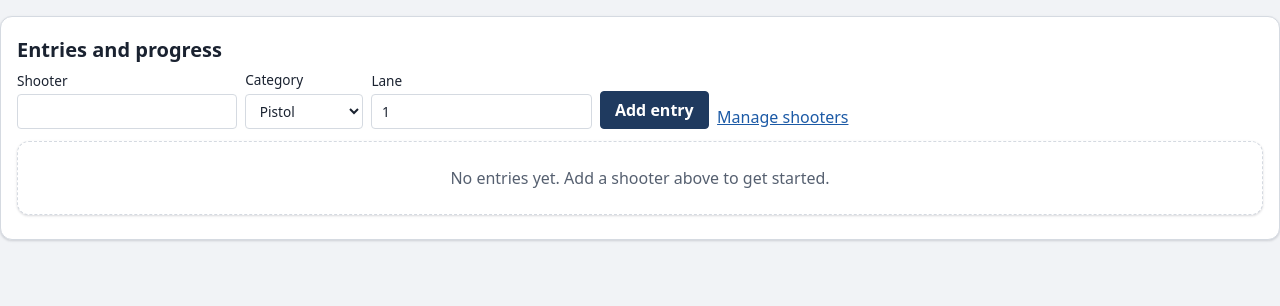
Scenario: Entries awaiting acceptance › explains an archived shooter and offers an inline unarchive
Type "Doe" into the dropdown labelled "Shooter".
click(127, 112); type("Doe")  # box [17, 94, 237, 129]
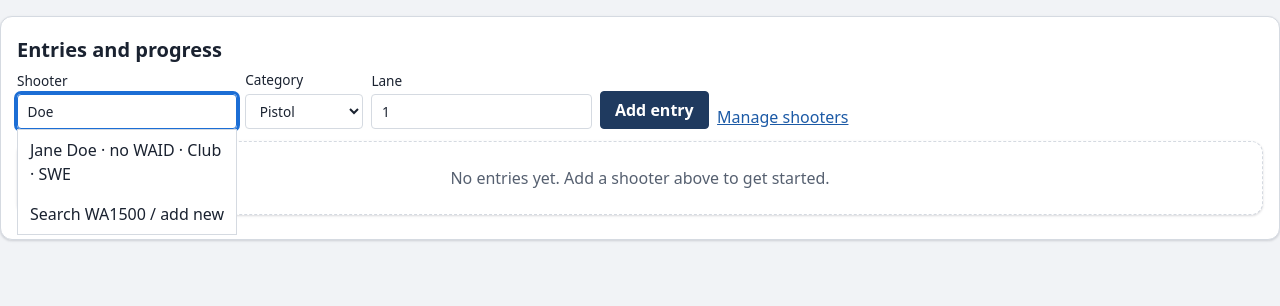
Click the option "Jane Doe · no WAID · Club · SWE".
click(127, 162)  # box [18, 130, 236, 194]
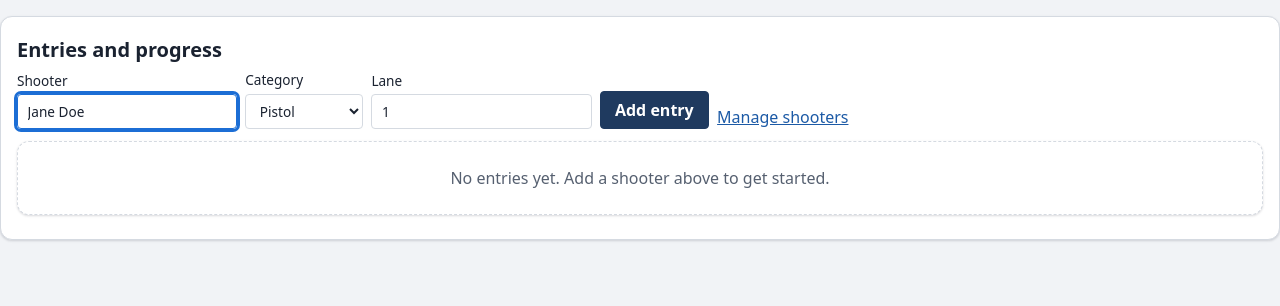
Click the button "Add entry".
click(654, 110)  # box [600, 91, 709, 129]
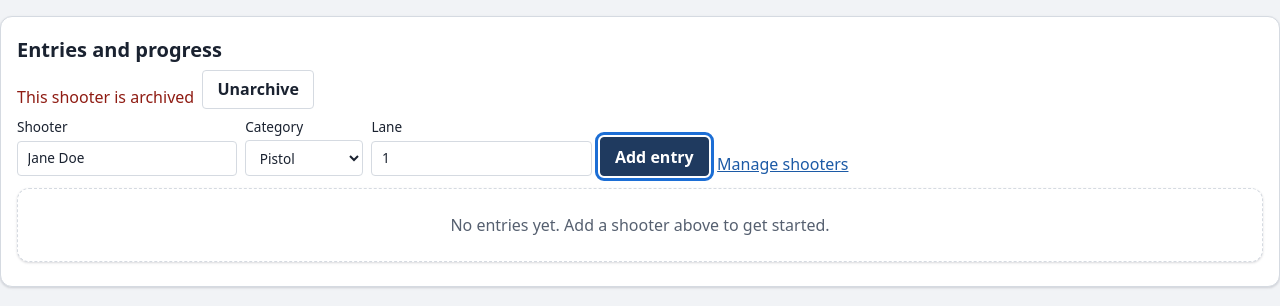
Result: the text "This shooter is archived Unarchive" is shown at [17, 70, 314, 109]
Click the button "Unarchive".
click(258, 89)  # box [202, 70, 314, 109]
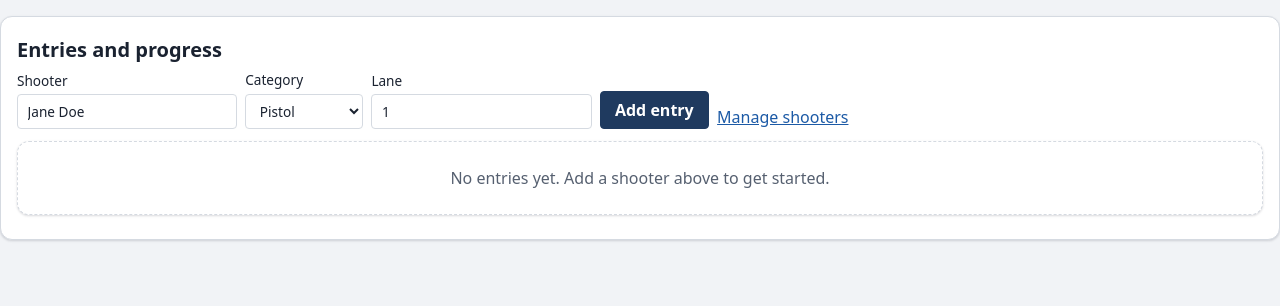
Result: the text "This shooter is archived" is gone
